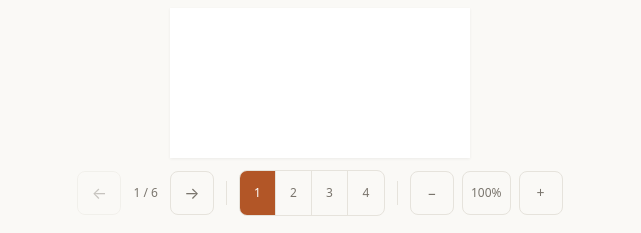
Scenario: showing several pages at a time › turns by the whole spread rather than one page
Click the button named "2 pages at a time".
click(294, 193)  # box [276,171,312,215]
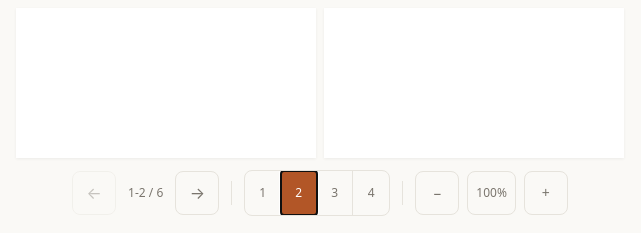
Click the button named "Next page".
click(197, 193)  # box [175,171,219,215]
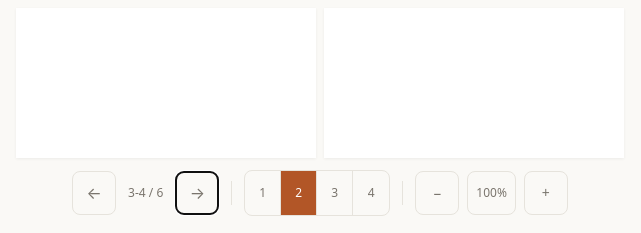
Check: the text "3-4 / 6" is shown, box [128,184,163,201]
